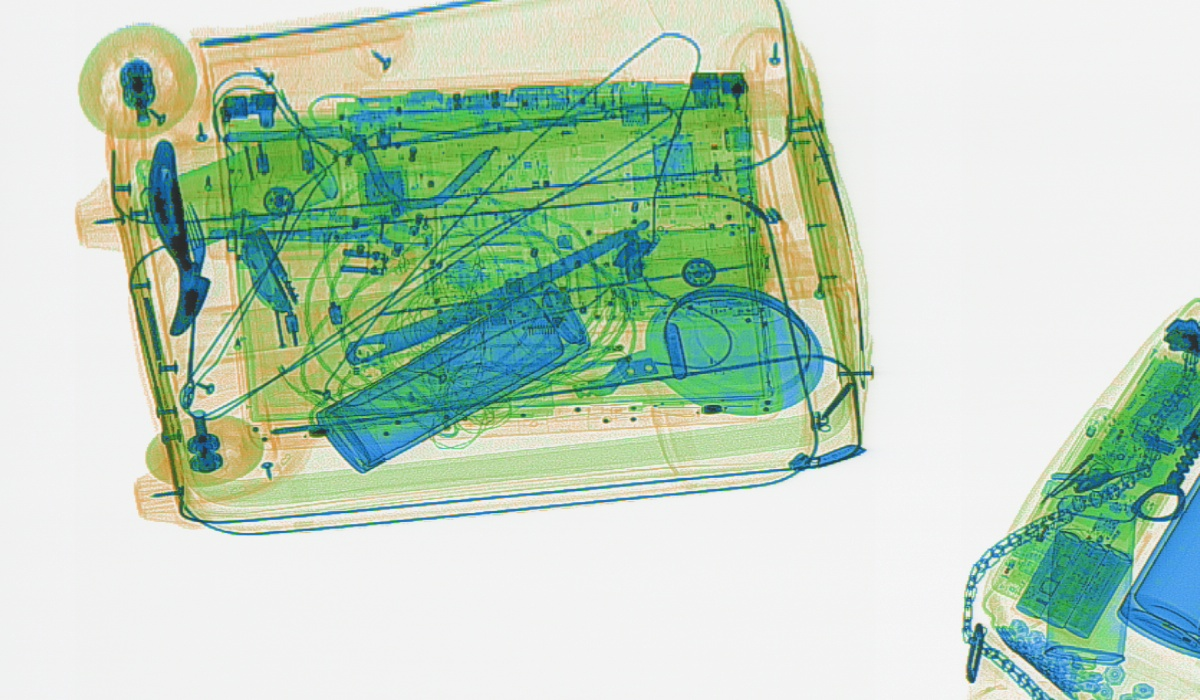knife: (238, 225, 298, 313)
powerbank: (1012, 495, 1140, 645)
zippooil: (139, 125, 338, 259), (1042, 494, 1138, 669)
